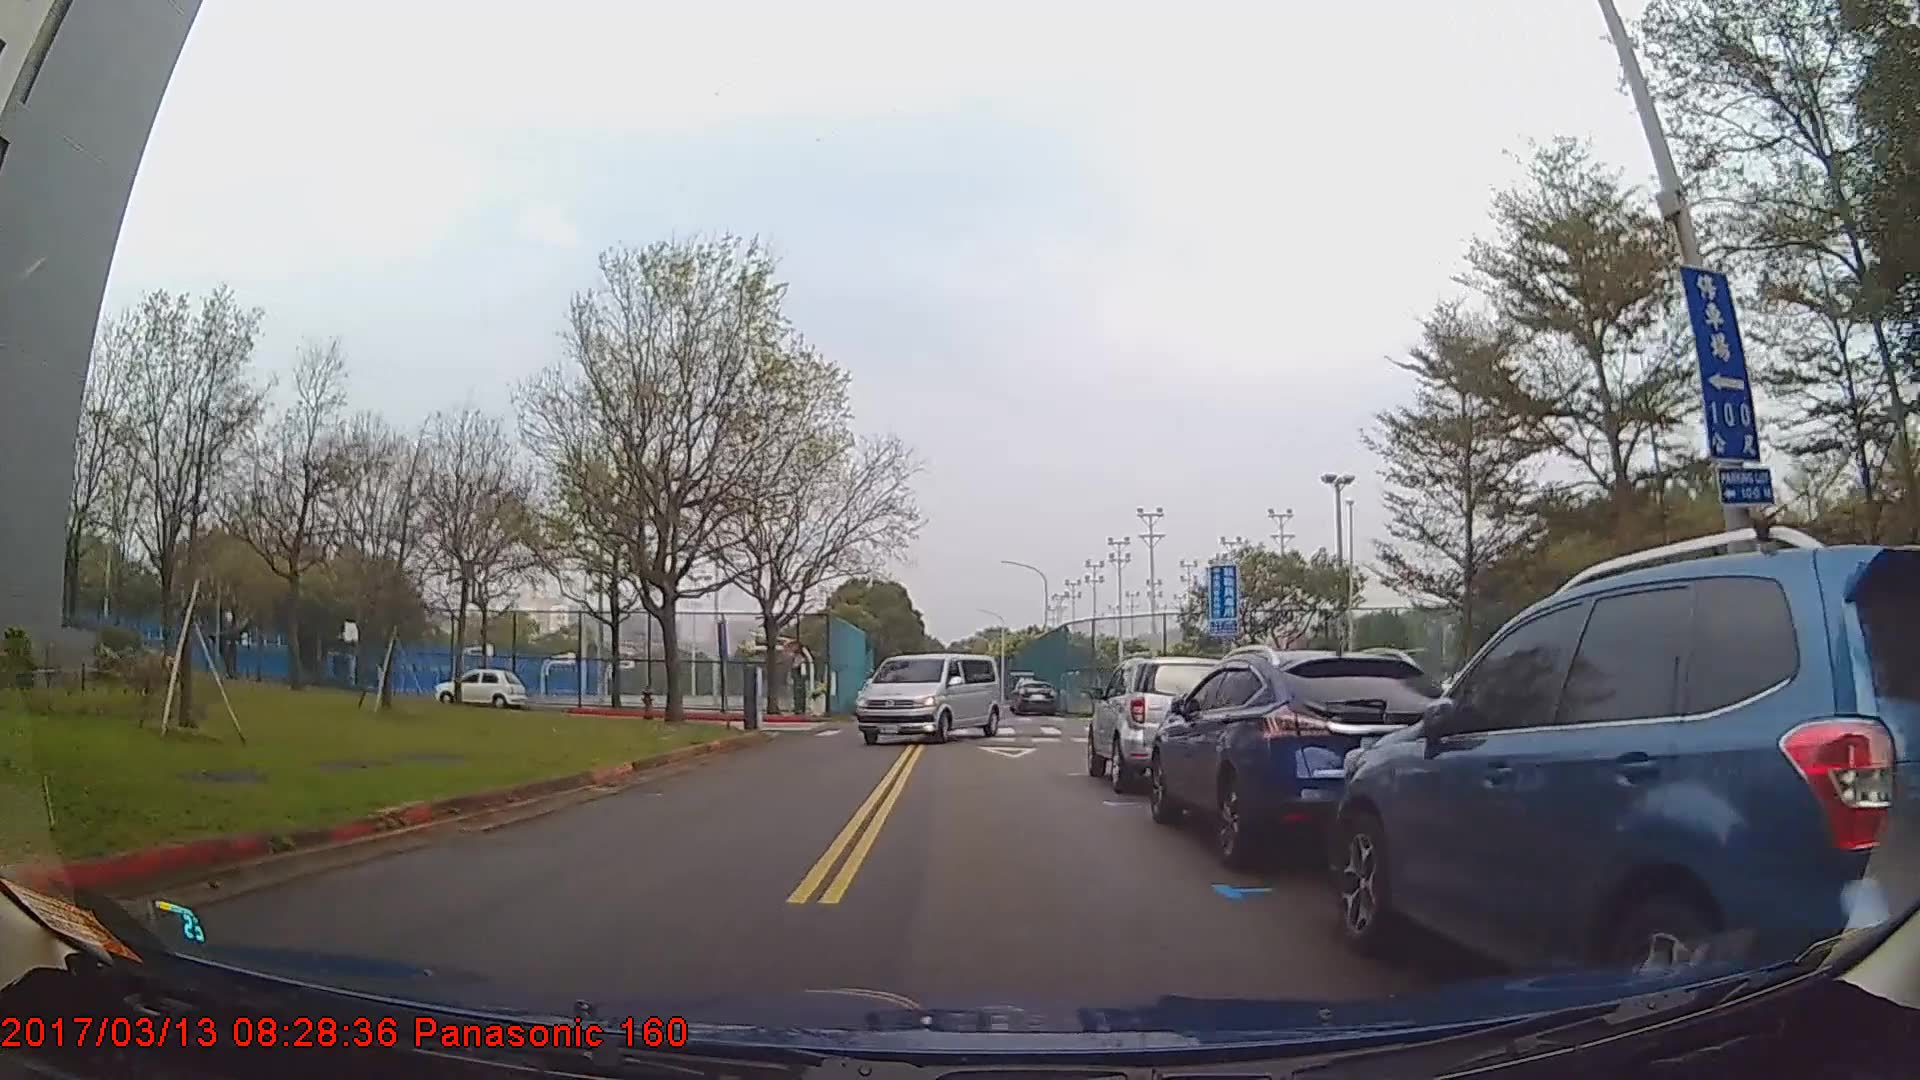vehicle: (1331, 542, 1917, 1011), (1146, 647, 1455, 862), (1087, 657, 1237, 791), (855, 649, 1004, 746), (436, 670, 527, 707), (1013, 679, 1059, 717)
